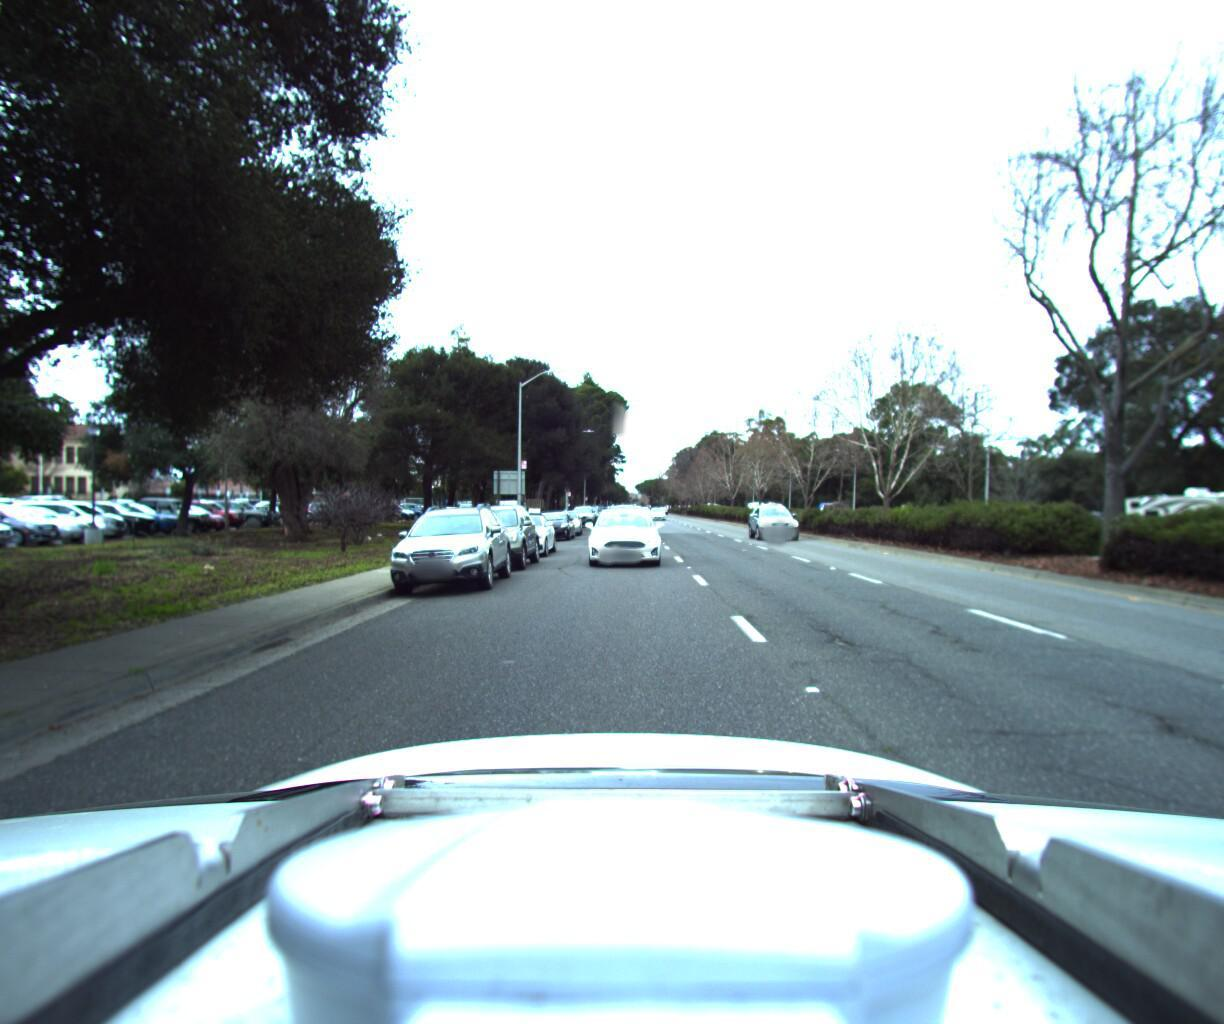car: (378, 495, 517, 600), (444, 496, 542, 570), (588, 502, 663, 565), (485, 505, 557, 555), (748, 497, 805, 536), (529, 502, 575, 535), (545, 501, 582, 531), (569, 496, 595, 521)
other_vehicle: (1110, 477, 1224, 558)
